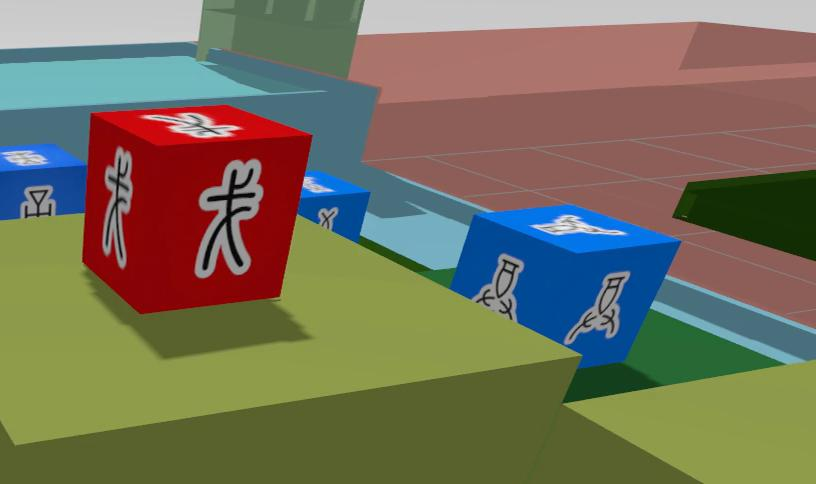KFS_FAKE: (84, 104, 311, 313), (195, 160, 264, 277), (102, 147, 133, 267), (142, 112, 238, 137)
KFS_REAL: (450, 204, 680, 365), (0, 144, 85, 219), (298, 170, 370, 240), (564, 273, 630, 345), (472, 254, 523, 320)
